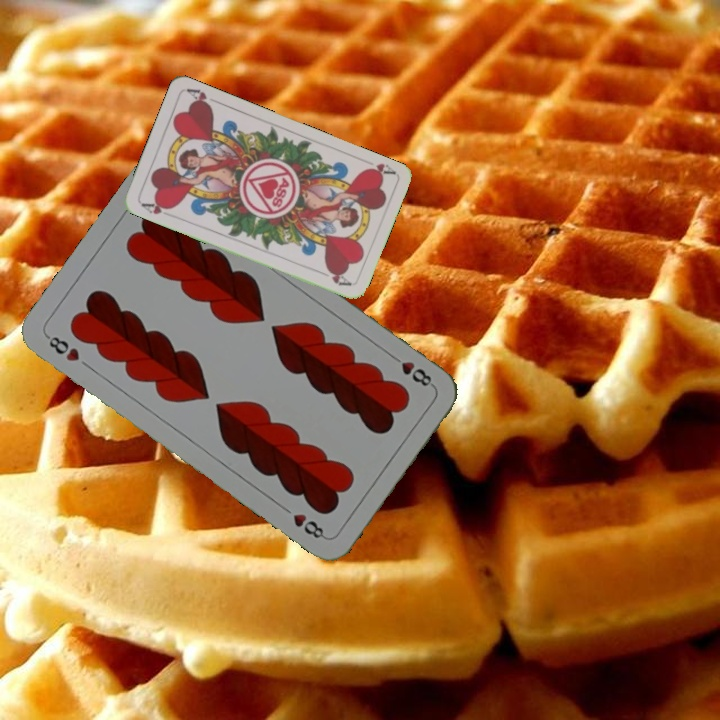H8: (386, 350, 437, 390), (42, 331, 82, 365)
HA: (358, 155, 397, 180), (137, 197, 176, 217)
